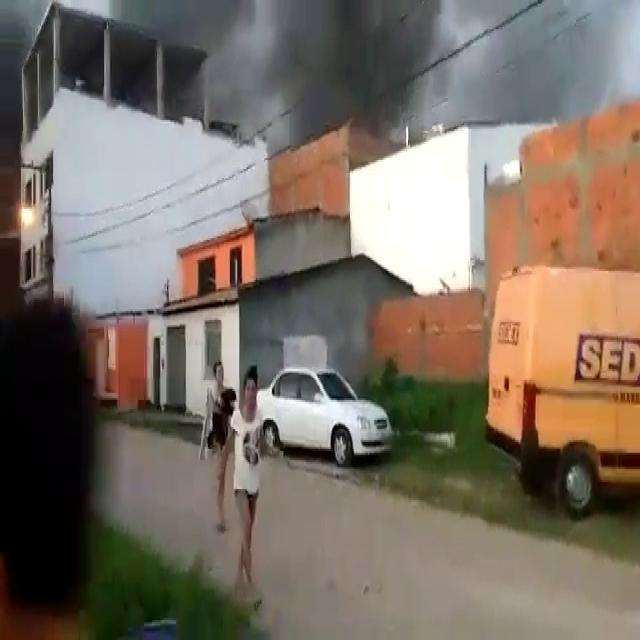Smoke: (113, 0, 628, 144), (0, 23, 39, 266)
